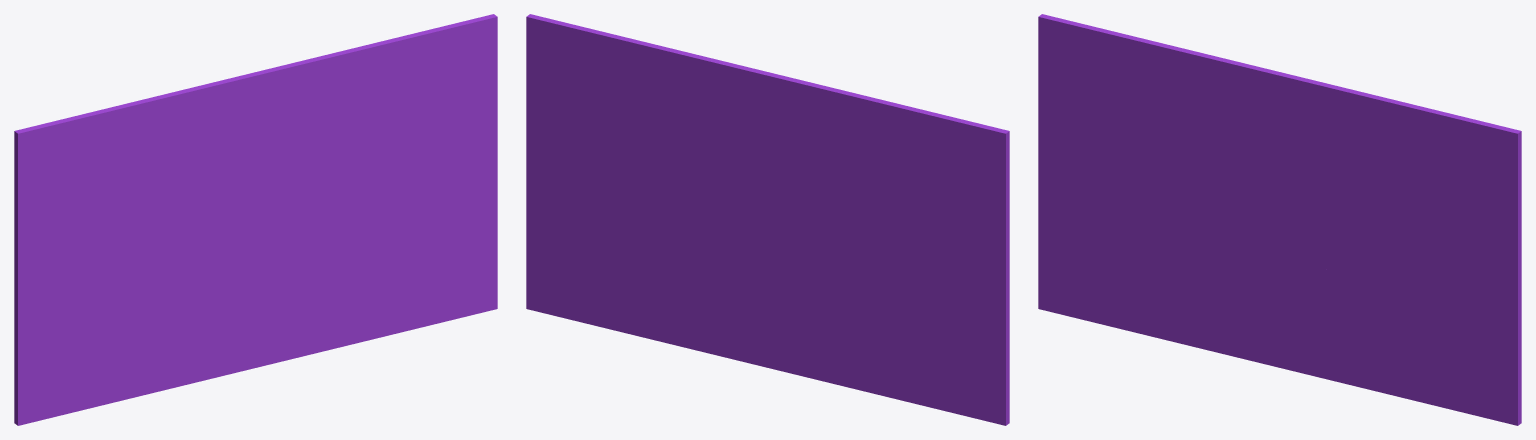
File: Glass_9_chunks.fbx
3 views of the same model, side by side, from view 1: azimuth 30°, elevation 25°; view 2: azimuth 150°, elevation 25°; view 3: azimuth 330°, elevation 25° (orthographic).
Visible parts, largest first — view 1: Glass_9_2, Glass_9_0, Glass_9_4, Glass_9_6, Glass_9_3, Glass_9_1; view 2: Glass_9_2, Glass_9_0, Glass_9_4, Glass_9_6, Glass_9_3, Glass_9_1; view 3: Glass_9_2, Glass_9_0, Glass_9_4, Glass_9_6, Glass_9_3, Glass_9_1.
Boxes of the visible parts, x1,y1,x2,y2 form: Glass_9_2: (261, 14, 497, 319); Glass_9_0: (14, 85, 246, 409); Glass_9_4: (158, 291, 451, 391); Glass_9_6: (181, 222, 394, 318); Glass_9_3: (14, 279, 196, 425); Glass_9_1: (182, 68, 280, 227); Glass_9_2: (526, 14, 765, 320); Glass_9_0: (765, 87, 1009, 412); Glass_9_4: (575, 292, 864, 391); Glass_9_6: (630, 223, 841, 321); Glass_9_3: (824, 284, 1009, 425); Glass_9_1: (747, 67, 844, 193); Glass_9_2: (1281, 76, 1521, 425); Glass_9_0: (1038, 14, 1266, 290); Glass_9_4: (1179, 295, 1471, 414); Glass_9_6: (1201, 222, 1414, 357); Glass_9_3: (1038, 242, 1217, 342); Glass_9_1: (1202, 57, 1300, 223).
Size of the model in its own units: 1966 by 1144 by 27.2.
